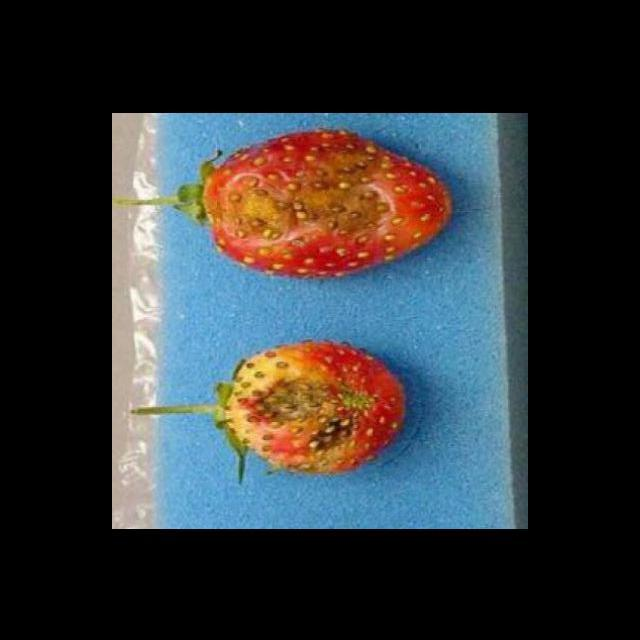Anthracnose Fruit Rot: (200, 132, 401, 260), (235, 361, 380, 474)
